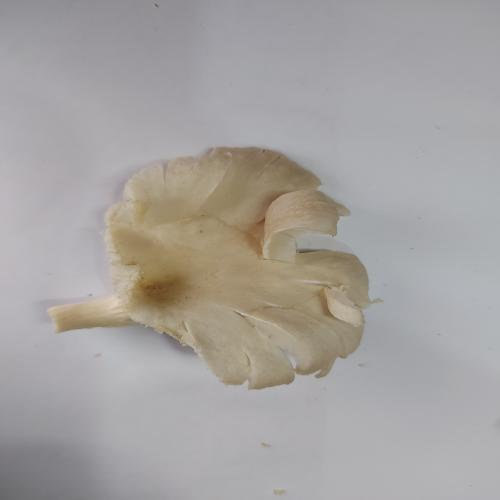Oyster Mushroom: (46, 145, 375, 390)
